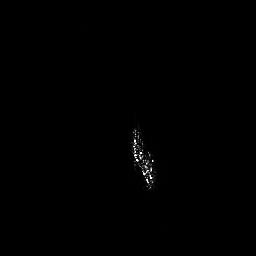ship: (129, 126, 157, 193)
